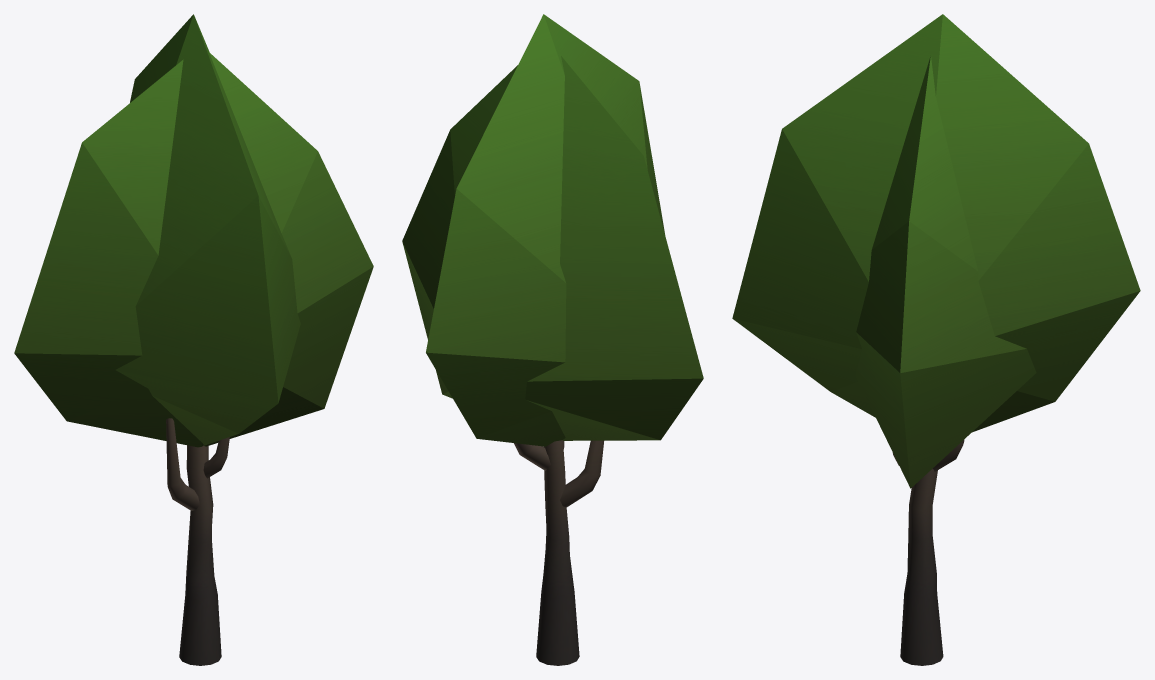
Rendered from prop_tree_G.fbx.
3 views of the same model, side by side, from view 1: azimuth 30°, elevation 25°; view 2: azimuth 150°, elevation 25°; view 3: azimuth 270°, elevation 25° (orthographic). The views are drawn at different scales.
Visible parts, largest first — view 1: prop_tree_g; view 2: prop_tree_g; view 3: prop_tree_g.
Boxes of the visible parts, <box> form: prop_tree_g: <box>14,14,373,665</box>; prop_tree_g: <box>402,14,703,665</box>; prop_tree_g: <box>732,14,1140,665</box>.
Bounding box in the file's own units: 304 × 564 × 324.
Materials: 1 (1 with a texture image).
